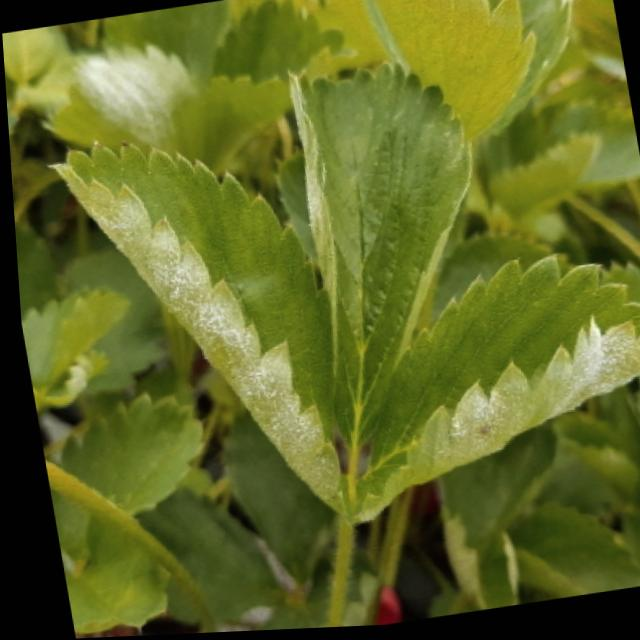Powdery Mildew Leaf: (40, 139, 340, 517), (339, 256, 640, 527), (284, 63, 470, 452)
